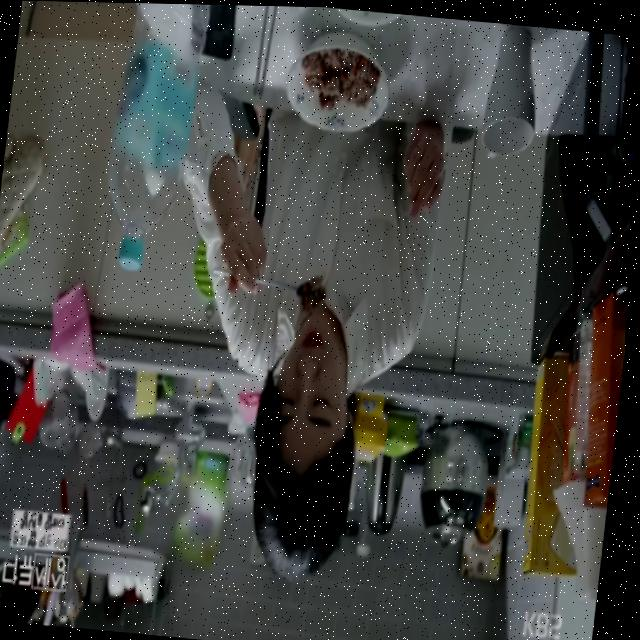eating-person: (135, 19, 471, 600)
